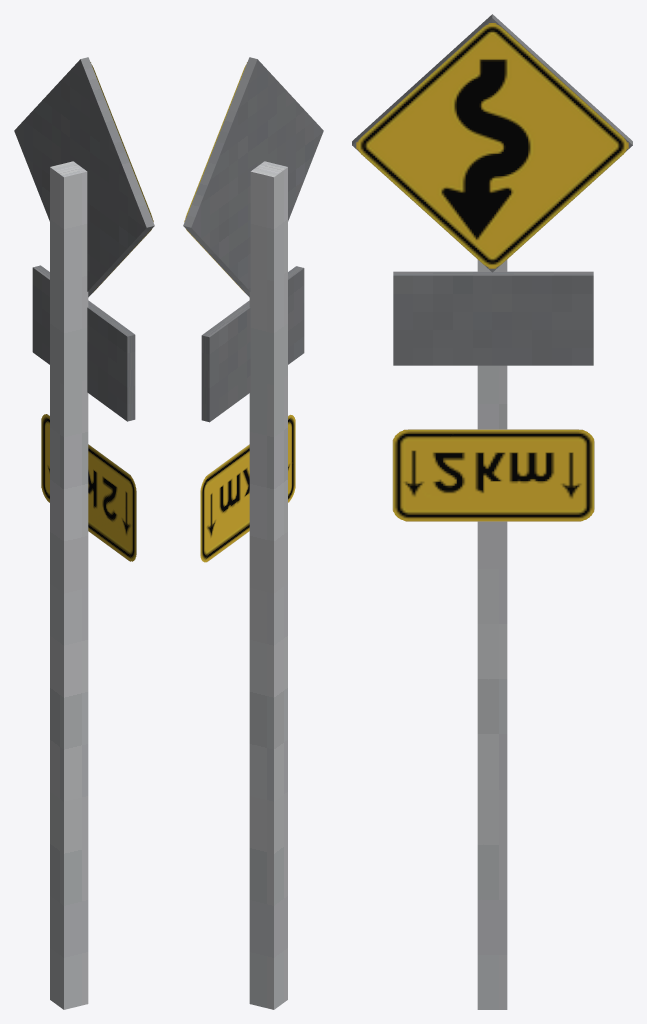
File: signwarningplaque.obj
3 views of the same model, side by side, from view 1: azimuth 30°, elevation 25°; view 2: azimuth 150°, elevation 25°; view 3: azimuth 270°, elevation 25° (orthographic). The views are drawn at different scales.
Visible parts, largest first — view 1: cube, cylinder, plane; view 2: cube, cylinder, plane; view 3: plane, cube, cylinder.
Part boxes in pixels (x1,y1,x2,y2): cube: [32, 161, 135, 1009]; cylinder: [14, 57, 154, 297]; plane: [41, 62, 153, 561]; cube: [201, 161, 304, 1009]; cylinder: [183, 57, 323, 297]; plane: [184, 62, 295, 562]; plane: [356, 23, 628, 521]; cube: [393, 260, 593, 1009]; cylinder: [352, 14, 632, 272].
Bounding box in the file's own units: 0.125 × 3.46 × 0.8839.
Materials: 4 (4 with a texture image).
